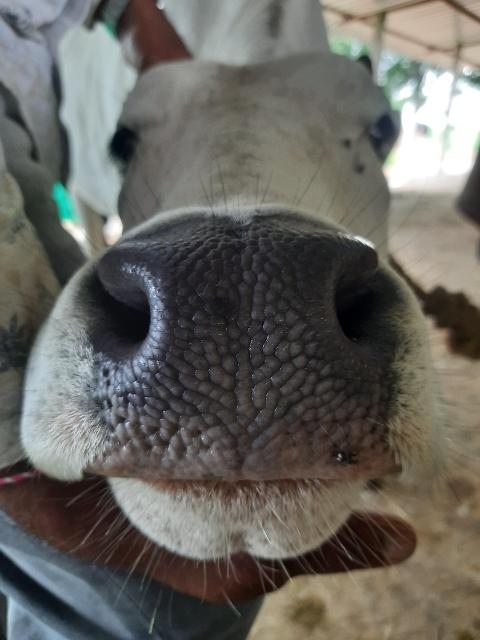Muzzle: (135, 237, 352, 478)
